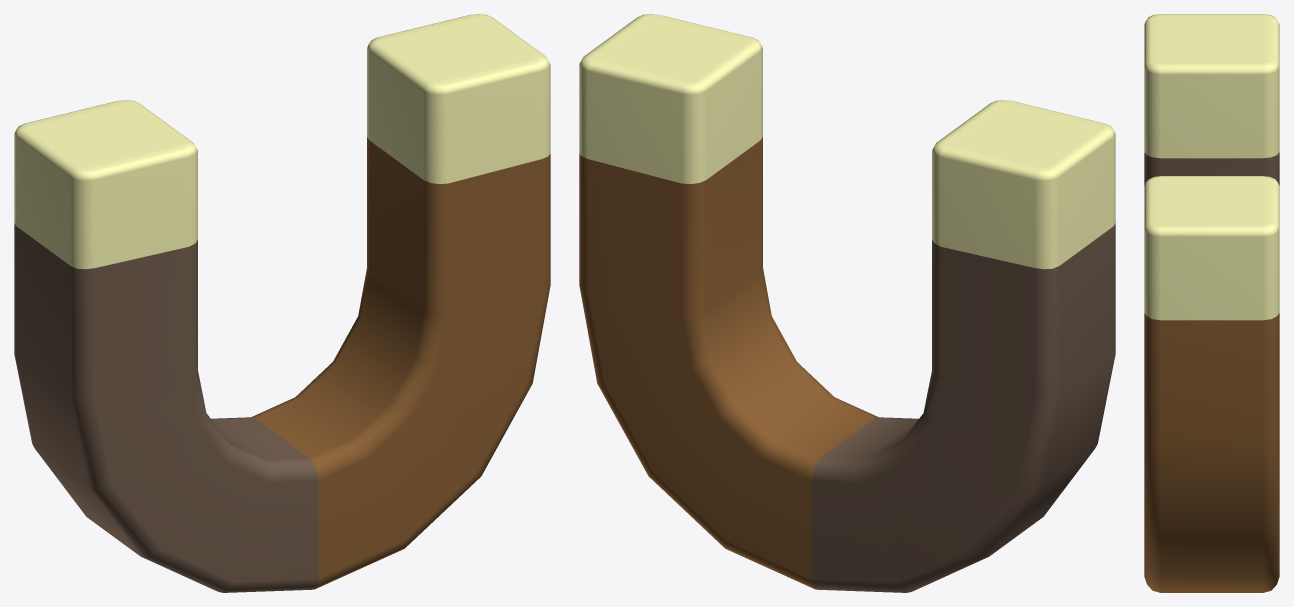
The model's file is Magnet_MDL.fbx.
3 renders of one model, left to right at view 1: azimuth 30°, elevation 25°; view 2: azimuth 150°, elevation 25°; view 3: azimuth 270°, elevation 25°, orthographic. The views are drawn at different scales.
Visible parts, largest first — view 1: Magnet_GEO; view 2: Magnet_GEO; view 3: Magnet_GEO.
Boxes of the visible parts, x1=… form: Magnet_GEO: x1=14, y1=14, x2=550, y2=592; Magnet_GEO: x1=579, y1=14, x2=1115, y2=592; Magnet_GEO: x1=1144, y1=14, x2=1279, y2=592.
Size of the model in its own units: 45.37 by 43.24 by 11.85.
